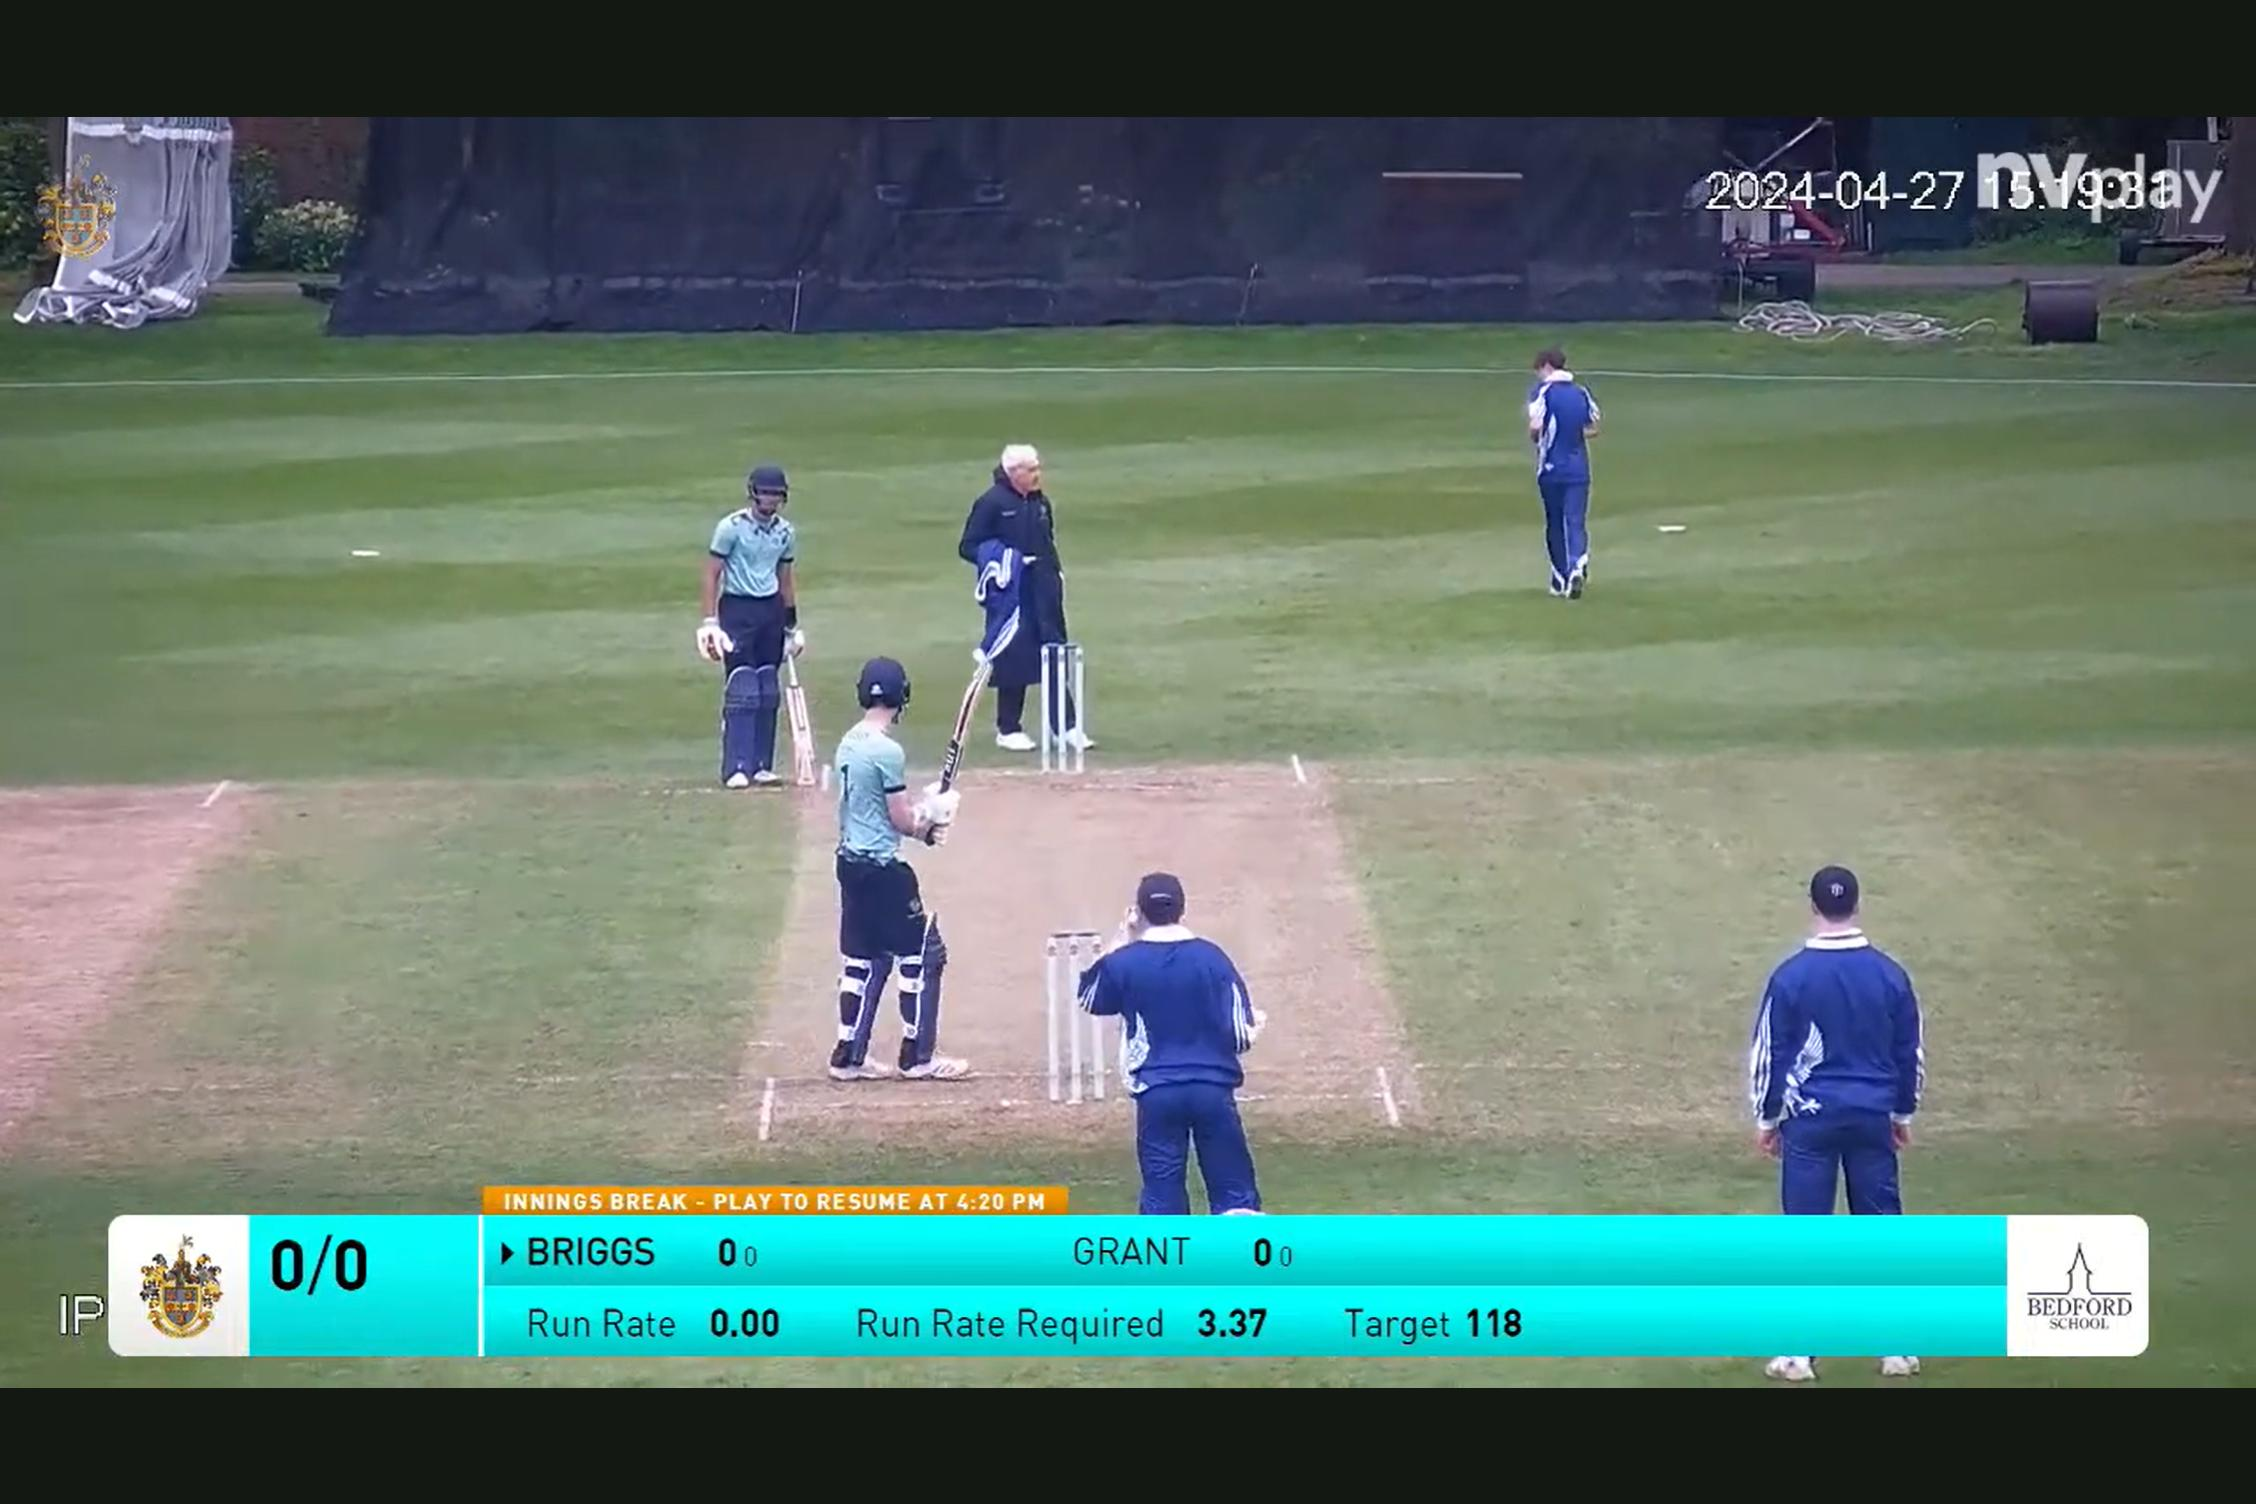batsman: (801, 643, 1002, 1091)
bowler walking back: (1492, 332, 1640, 603)
